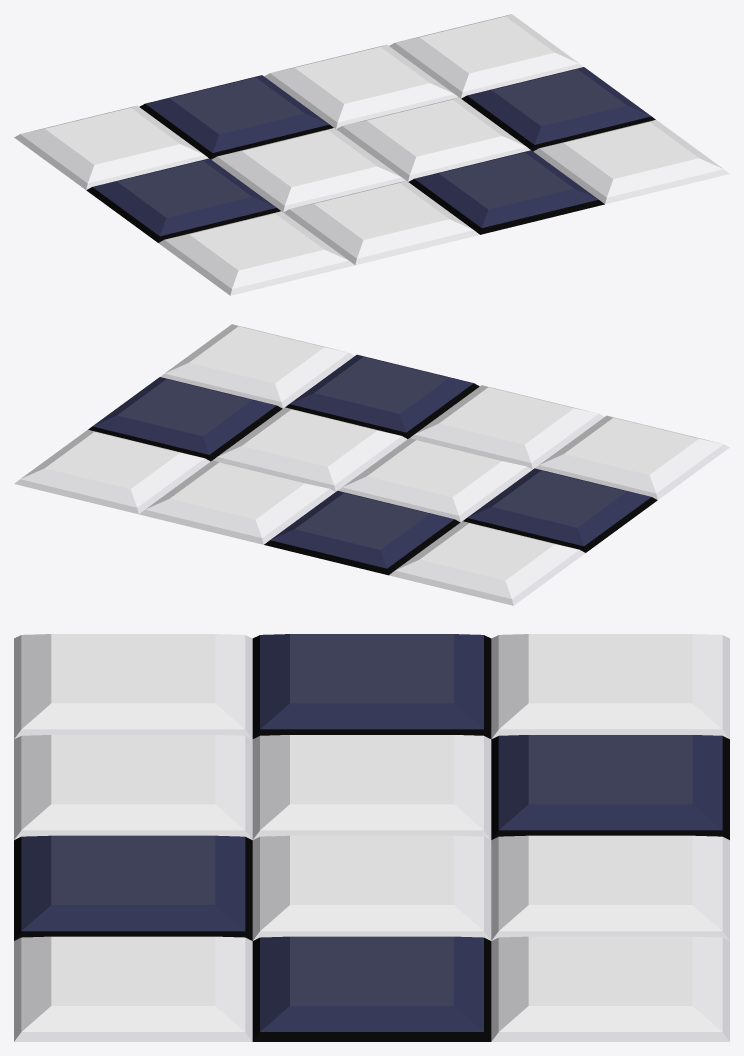
The picture shows the model from 3 angles, top to bottom: view 1: azimuth 30°, elevation 25°; view 2: azimuth 150°, elevation 25°; view 3: azimuth 270°, elevation 25°; orthographic projection. The views are drawn at different scales.
Size of the model in its own units: 128 by 3 by 96.
1 material, 1 textured.
